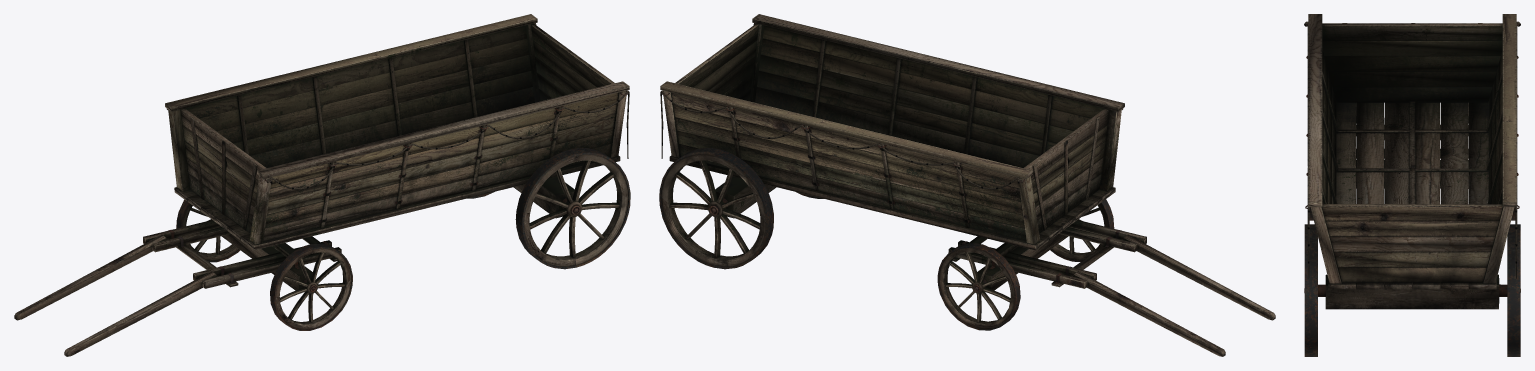
File: WoodCart.fbx
3 renders of one model, left to right at view 1: azimuth 30°, elevation 25°; view 2: azimuth 150°, elevation 25°; view 3: azimuth 270°, elevation 25°, orthographic. The views are drawn at different scales.
Visible parts, largest first — view 1: WoodCart; view 2: WoodCart; view 3: WoodCart.
Part boxes in pixels (bbox=[...]): WoodCart: bbox=[14, 14, 630, 356]; WoodCart: bbox=[659, 14, 1275, 356]; WoodCart: bbox=[1304, 14, 1520, 356].
Size of the model in its own units: 5.2 by 1.54 by 1.71.
Materials: 1 (1 with a texture image).
